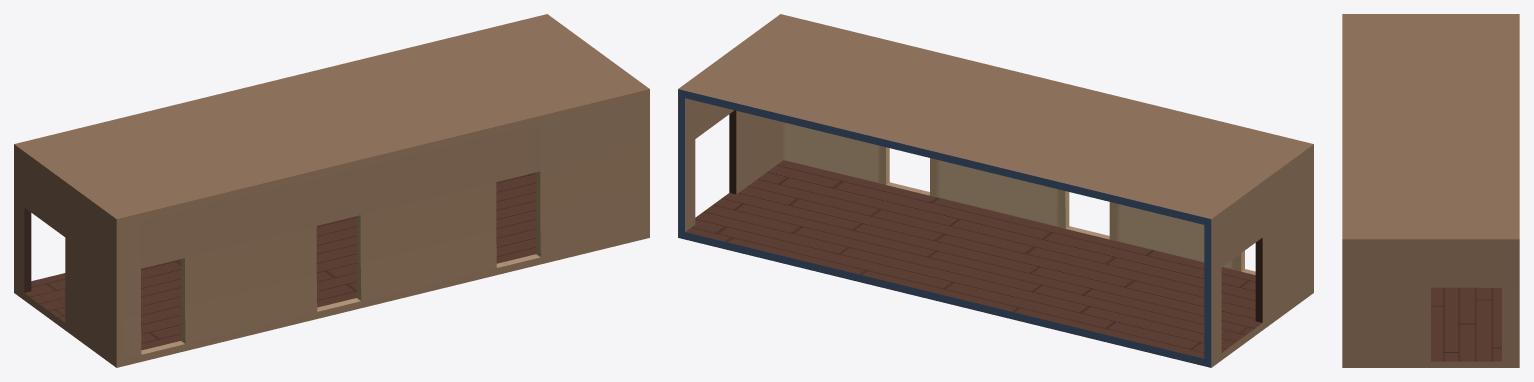
Rendered from Hallway3UP_OFFSET.fbx.
3 views of the same model, side by side, from view 1: azimuth 30°, elevation 25°; view 2: azimuth 150°, elevation 25°; view 3: azimuth 270°, elevation 25° (orthographic). The views are drawn at different scales.
Parts seen in each view (by area): view 1: up3_3doors_offset; view 2: up3_3doors_offset; view 3: up3_3doors_offset.
Boxes of the visible parts, <box> form: up3_3doors_offset: <box>14,14,649,367</box>; up3_3doors_offset: <box>678,14,1313,367</box>; up3_3doors_offset: <box>1342,14,1519,367</box>.
Bounding box in the file's own units: 1501 × 400 × 500.
